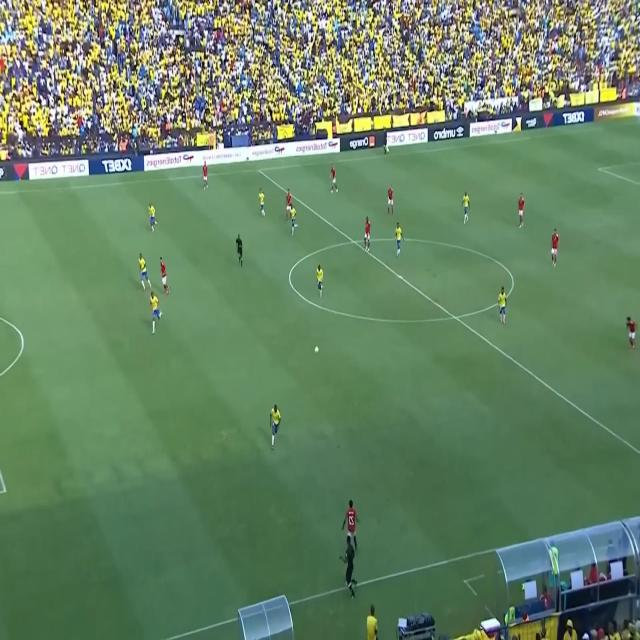Ball: (314, 344, 319, 354)
Player: (343, 499, 361, 553), (149, 291, 163, 336), (268, 403, 280, 453), (138, 252, 151, 294), (548, 227, 560, 272), (514, 190, 528, 228), (496, 284, 506, 330), (626, 309, 636, 353), (393, 220, 404, 260), (160, 257, 171, 297), (461, 188, 471, 226), (148, 202, 158, 234), (329, 163, 339, 193), (364, 213, 371, 254), (386, 184, 394, 217), (290, 204, 298, 236), (258, 188, 266, 219), (316, 264, 323, 296), (285, 190, 292, 218), (202, 161, 209, 188)
Ref: (343, 538, 356, 598), (234, 232, 244, 268), (382, 126, 389, 156)
